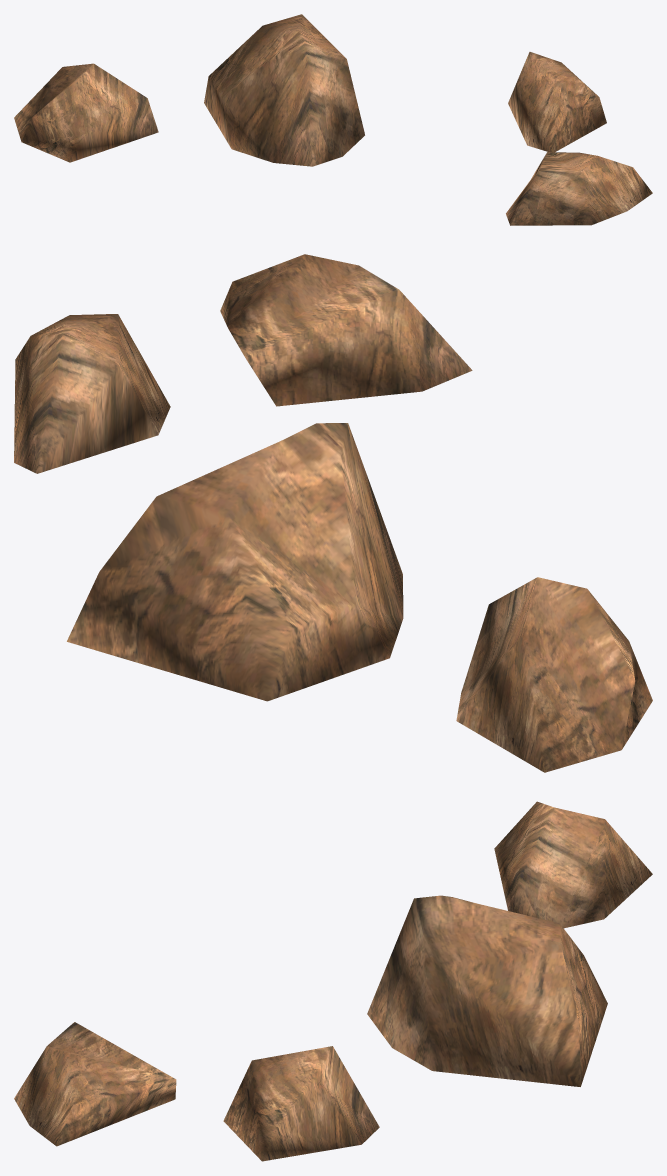
The model's file is rock_tatt_bensmesa_pebbles_a2_l1.fbx.
The picture shows the model from 3 angles, top to bottom: view 1: azimuth 30°, elevation 25°; view 2: azimuth 150°, elevation 25°; view 3: azimuth 270°, elevation 25°; orthographic projection. The views are drawn at different scales.
Visible parts, largest first — view 1: mesh_node; view 2: mesh_node; view 3: mesh_node.
Boxes of the visible parts, x1=… form: mesh_node: x1=14, y1=14, x2=652, y2=225; mesh_node: x1=14, y1=254, x2=652, y2=772; mesh_node: x1=14, y1=801, x2=652, y2=1161.
Size of the model in its own units: 0.8359 by 0.186 by 0.7689.
